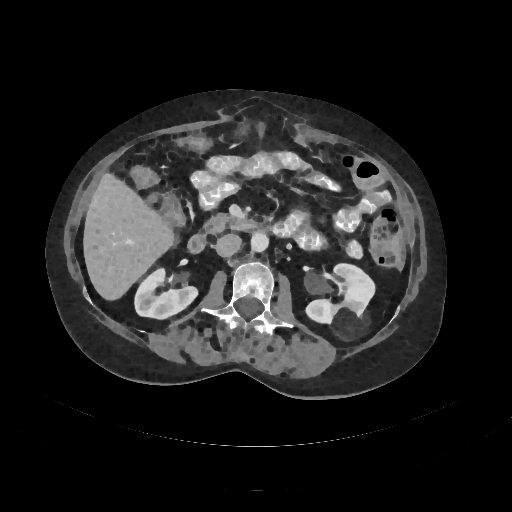Lesion: (329, 304, 375, 343)
